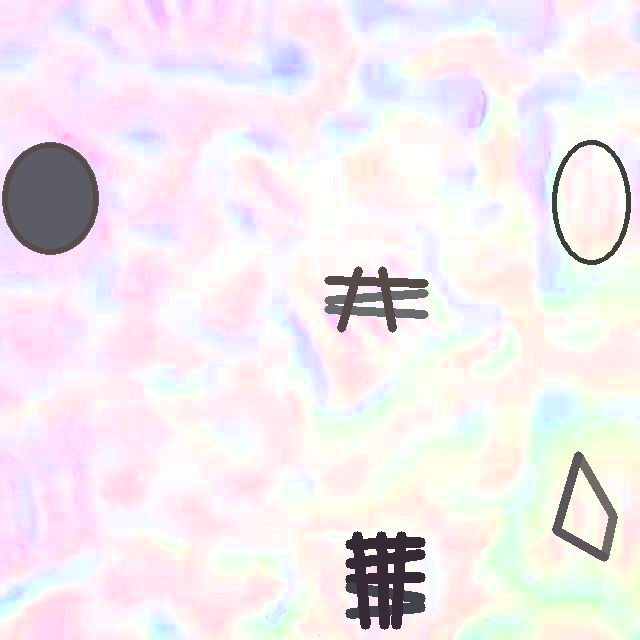open: (1, 141, 98, 254), (551, 140, 631, 265), (345, 531, 424, 628), (552, 451, 617, 561), (324, 266, 428, 332)
